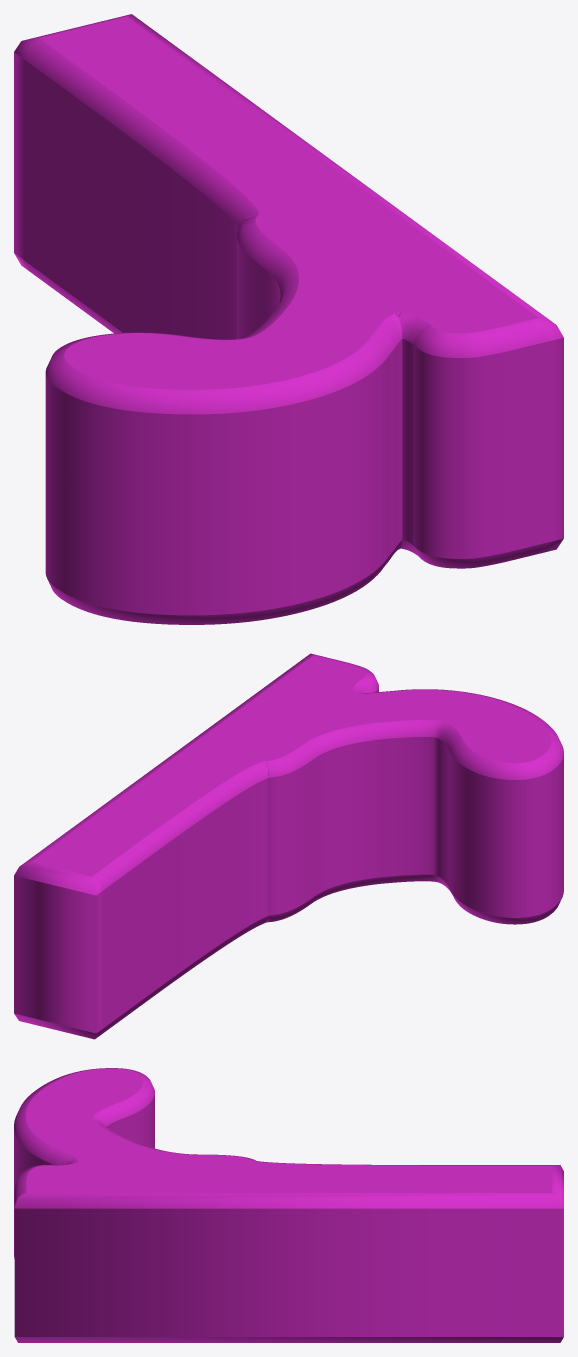
Rendered from Blocky_Letter_r.fbx.
3 renders of one model, top to bottom at view 1: azimuth 30°, elevation 25°; view 2: azimuth 150°, elevation 25°; view 3: azimuth 270°, elevation 25°, orthographic. The views are drawn at different scales.
Visible parts, largest first — view 1: BlockyLetter_r; view 2: BlockyLetter_r; view 3: BlockyLetter_r.
Boxes of the visible parts, bbox=[...] form: BlockyLetter_r: bbox=[14, 14, 563, 624]; BlockyLetter_r: bbox=[14, 653, 563, 1039]; BlockyLetter_r: bbox=[14, 1068, 563, 1342].
Size of the model in its own units: 0.2697 by 0.14 by 0.4663.
